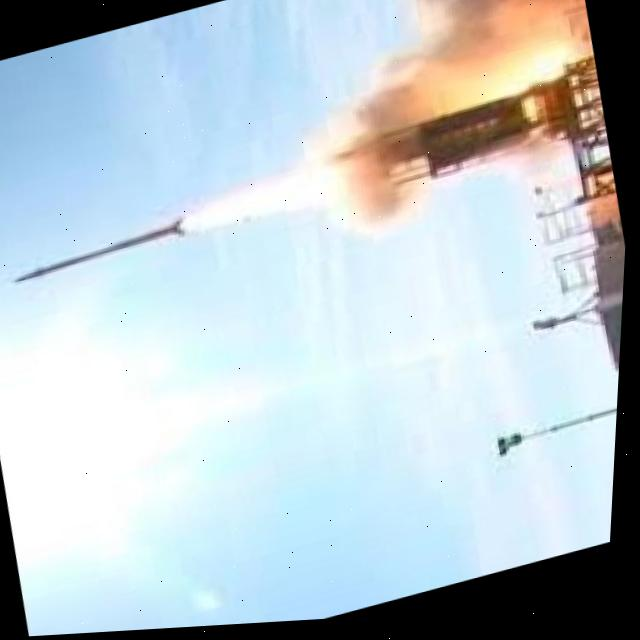missile: (10, 212, 197, 298)
